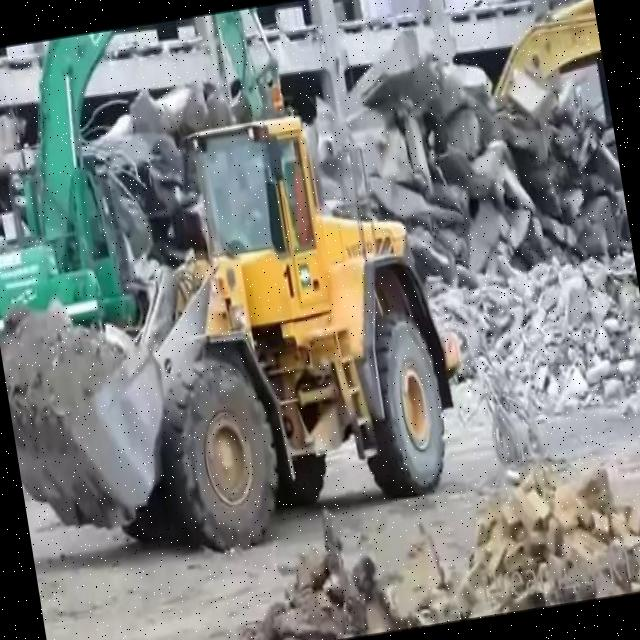Excavator: (0, 4, 311, 329)
Loader: (0, 90, 472, 578)
